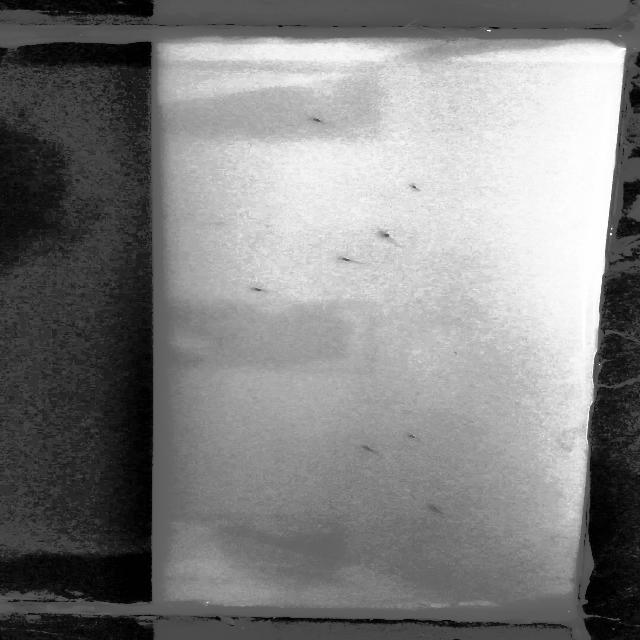shrimp: (336, 252, 367, 264), (376, 230, 401, 244), (360, 445, 384, 455), (253, 286, 275, 296), (429, 505, 447, 514), (407, 431, 421, 440), (409, 182, 424, 190), (308, 115, 310, 116)
